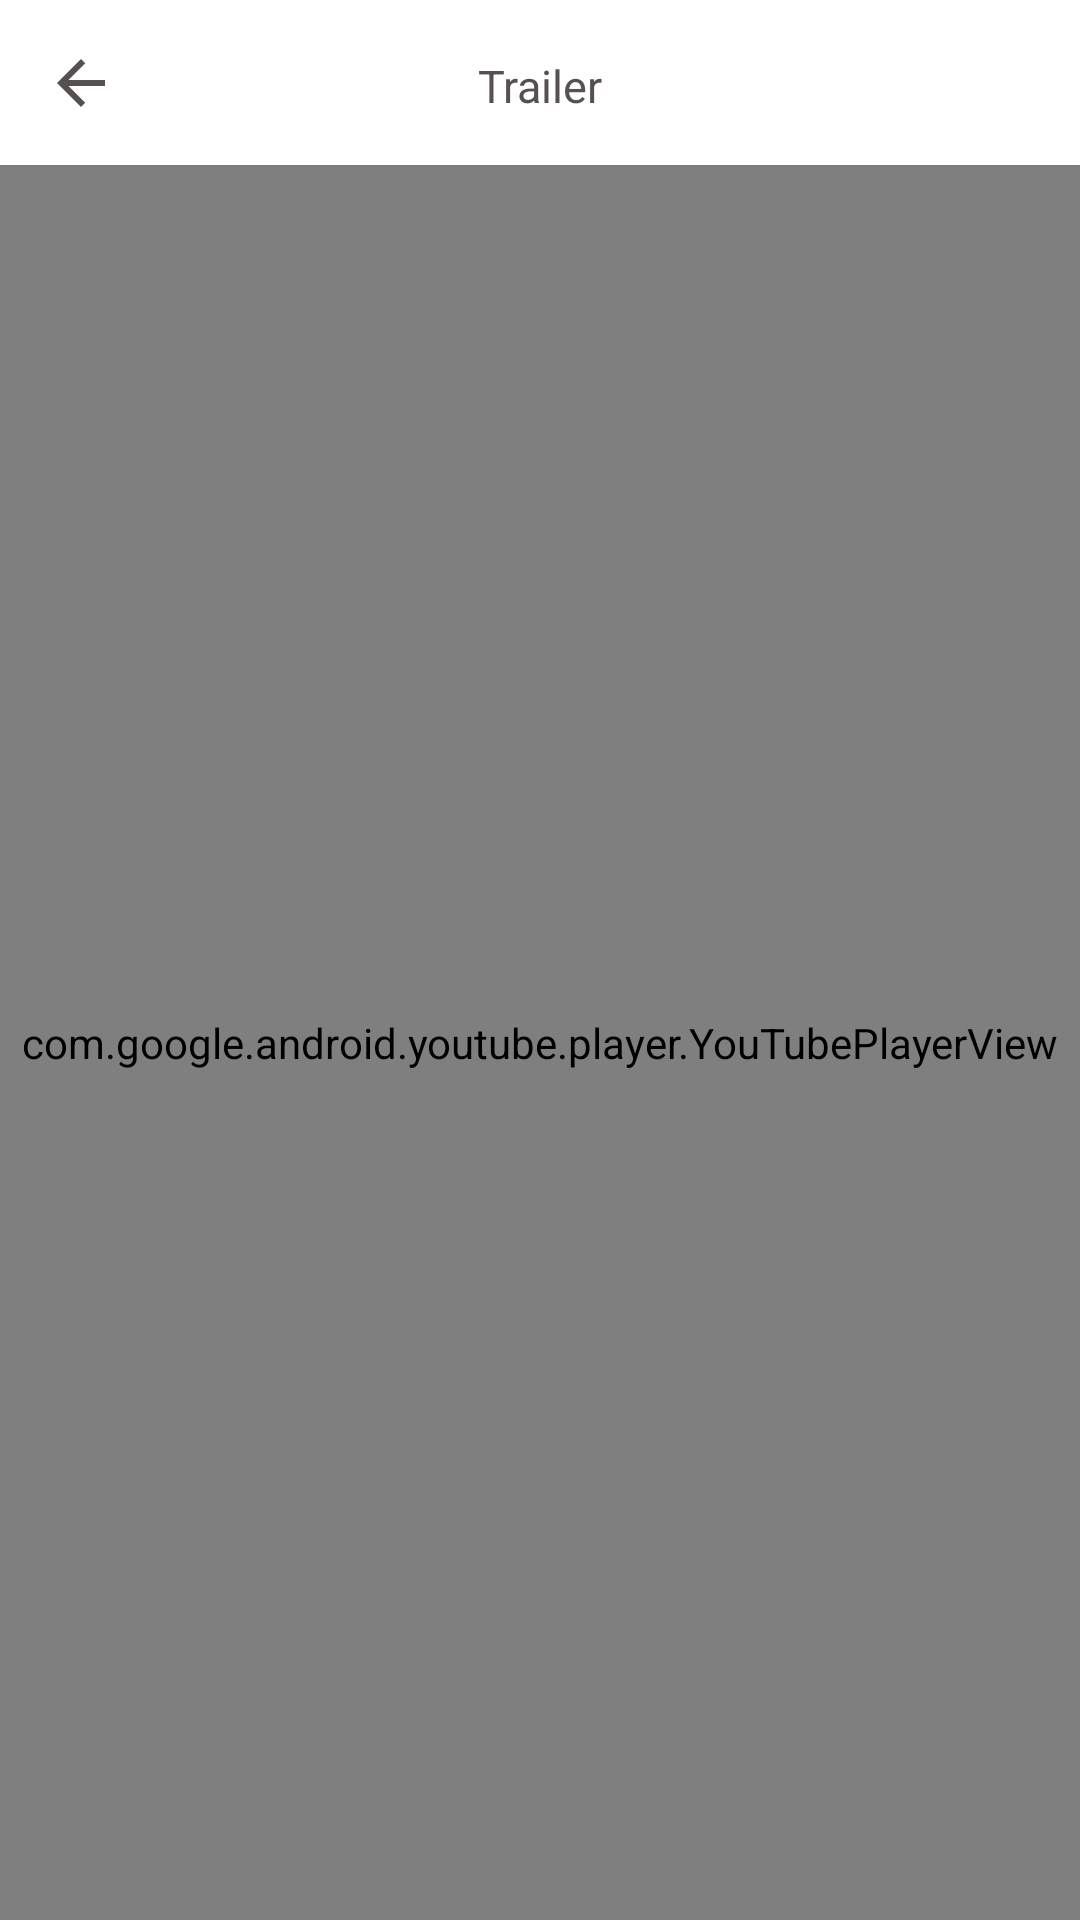

Icon bounding boxes for this 1080px×1920px phone screenshot, format Rect(x1, y1, x2, y2):
arrow back: Rect(57, 59, 105, 107)
